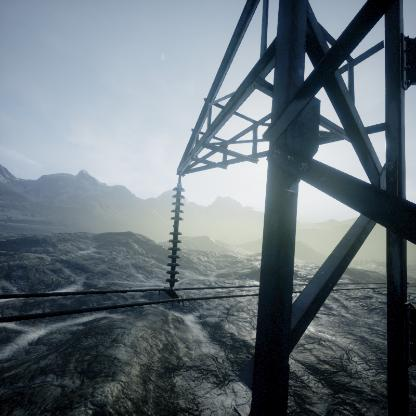insulator: (165, 182, 186, 288)
